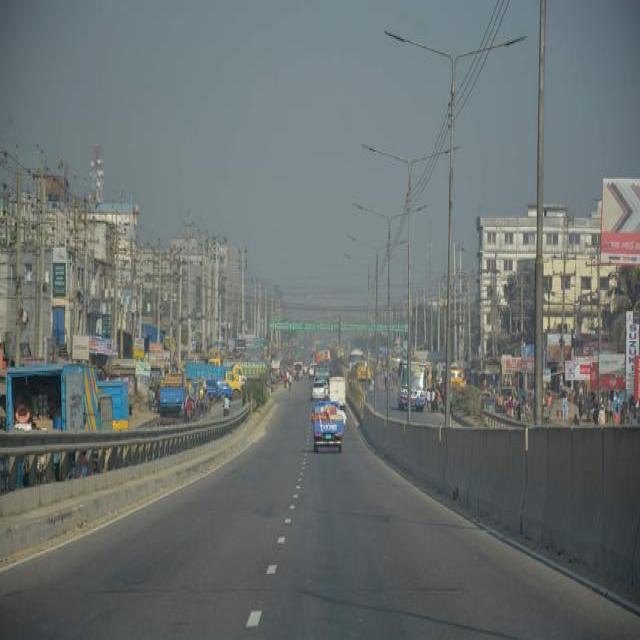bike: (222, 402, 230, 416)
vehicle: (4, 361, 98, 472), (99, 379, 131, 427), (396, 359, 428, 407), (312, 401, 342, 450), (189, 371, 241, 395), (209, 356, 268, 377), (159, 372, 187, 414), (497, 384, 530, 405), (329, 374, 347, 404), (198, 390, 212, 420), (352, 359, 372, 380), (315, 344, 332, 364), (310, 378, 326, 399), (449, 368, 465, 389), (292, 360, 302, 378)
